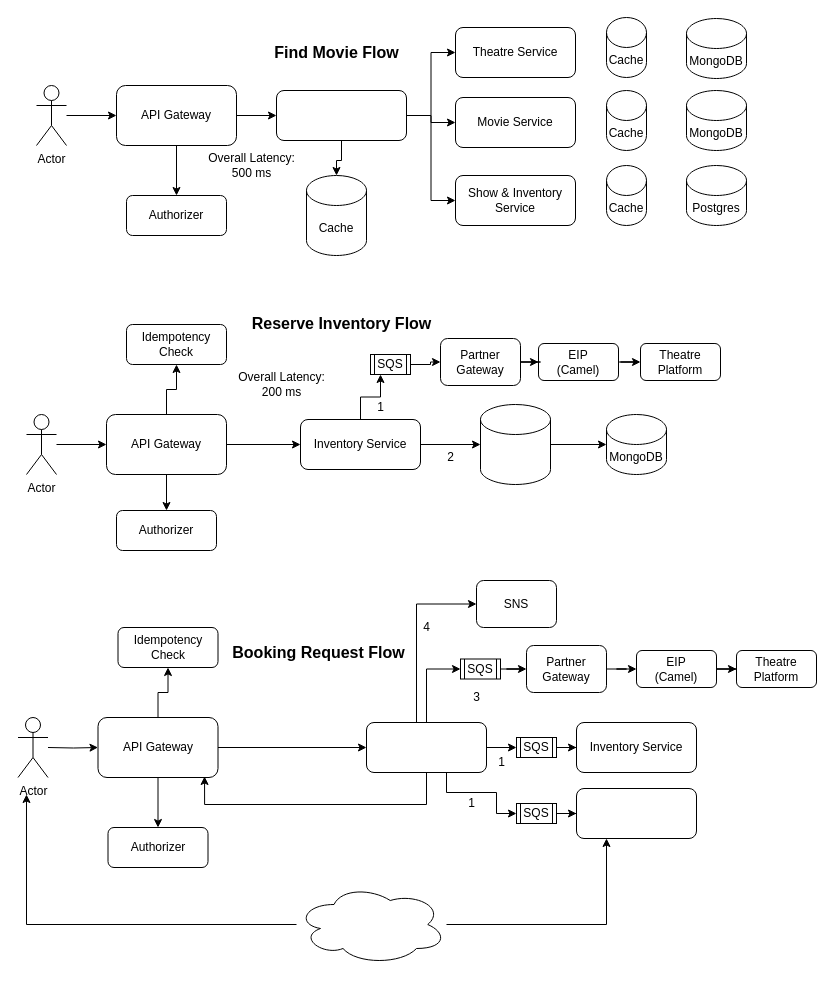
This 834x982 diagram has some shape labels left out. The shapes that lost their labels are listed below. From the top down, each one's centre as x and y in pixels, then its label:
At pixel 341 115: "Search Movie Service".
At pixel 515 444: "Redis".
At pixel 426 747: "Booking Service".
At pixel 636 813: "Payment Service".
At pixel 371 924: "Payment Gateway".
